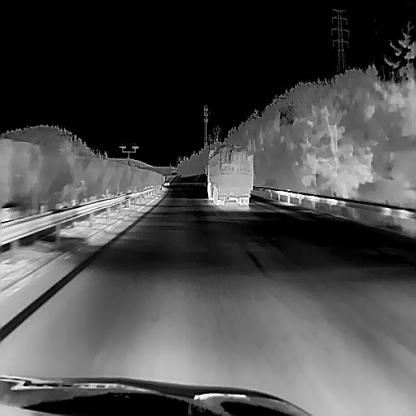truck: (205, 148, 253, 204)
